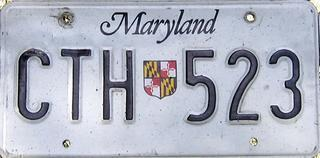placa de veiculo: (4, 1, 312, 150)
